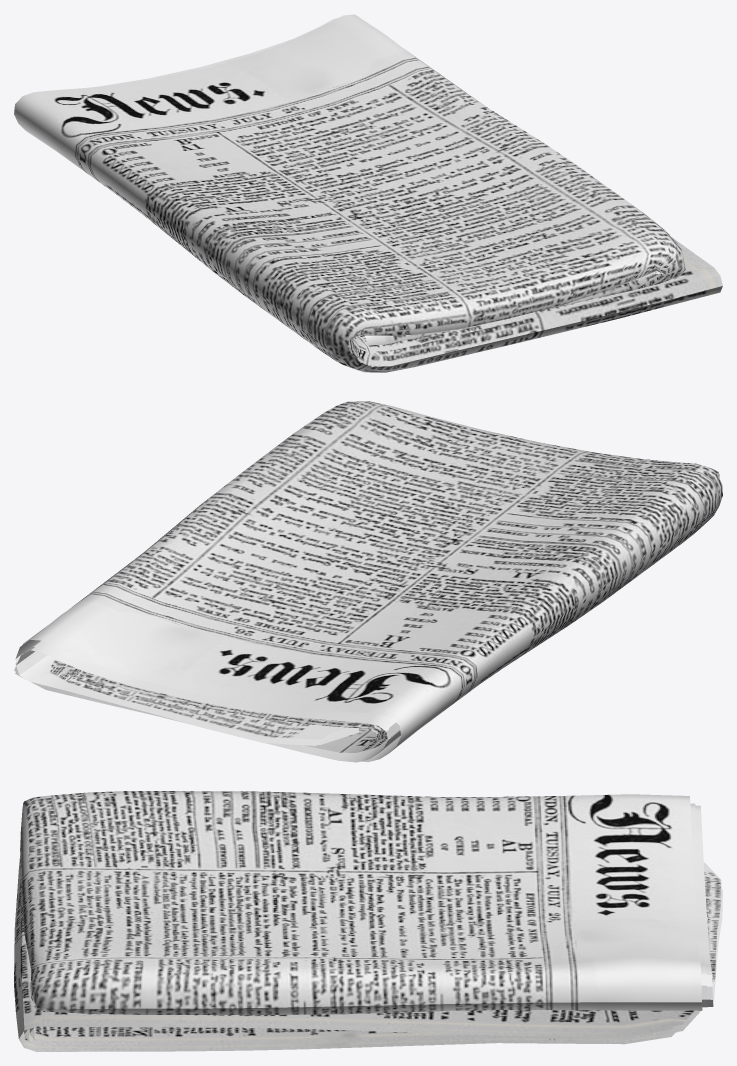
Rendered from Newspaper.FBX.
The picture shows the model from 3 angles, top to bottom: view 1: azimuth 30°, elevation 25°; view 2: azimuth 150°, elevation 25°; view 3: azimuth 270°, elevation 25°; orthographic projection. The views are drawn at different scales.
Visible parts, largest first — view 1: Newspaper; view 2: Newspaper; view 3: Newspaper.
Boxes of the visible parts, <box> form: Newspaper: <box>14,14,722,372</box>; Newspaper: <box>14,401,722,762</box>; Newspaper: <box>14,791,722,1051</box>.
Size of the model in its own units: 20.34 by 3.42 by 30.6.
